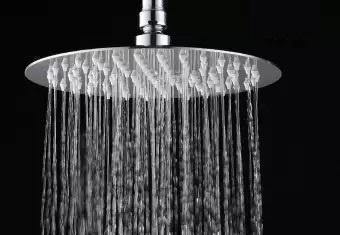Ducha: (14, 0, 291, 234)
